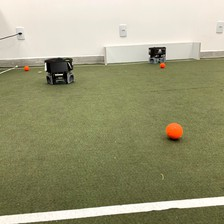ball: (164, 120, 185, 141), (23, 63, 30, 72), (158, 62, 166, 69)
goal: (102, 39, 204, 67)
robot: (42, 56, 77, 87), (146, 44, 168, 66)
